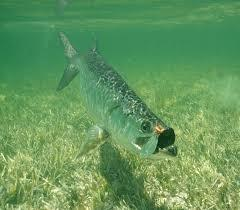Tenpounder: (41, 28, 181, 158)
